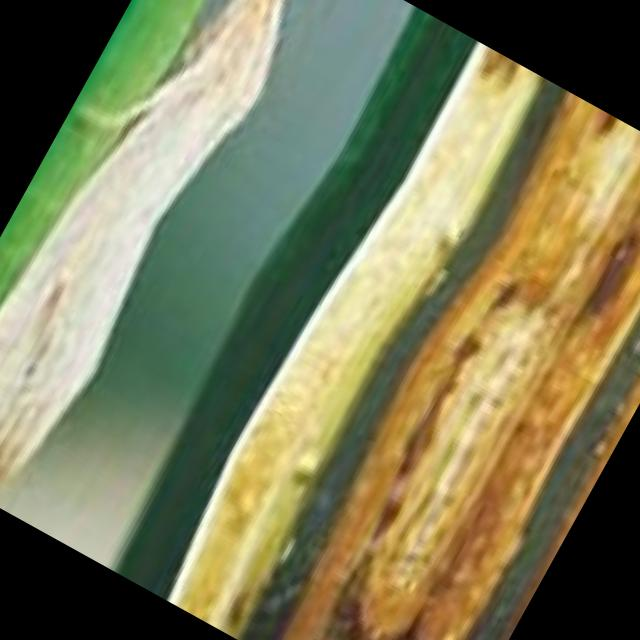stem-borer: (0, 0, 339, 525)
